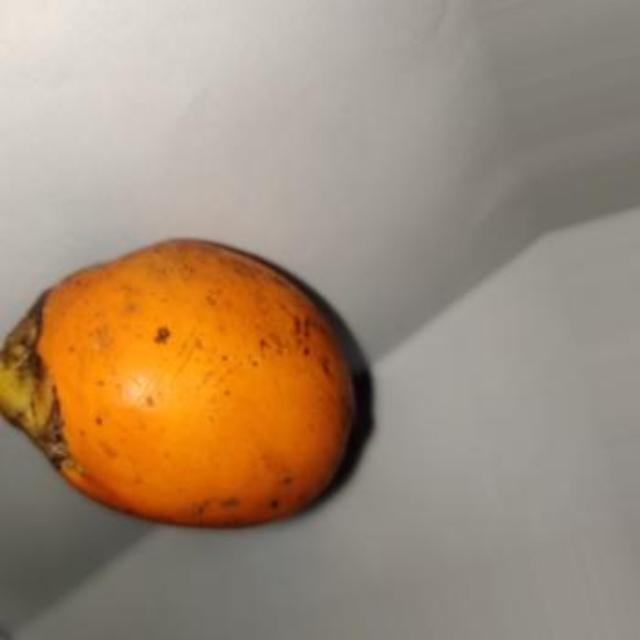good: (4, 240, 371, 530)
